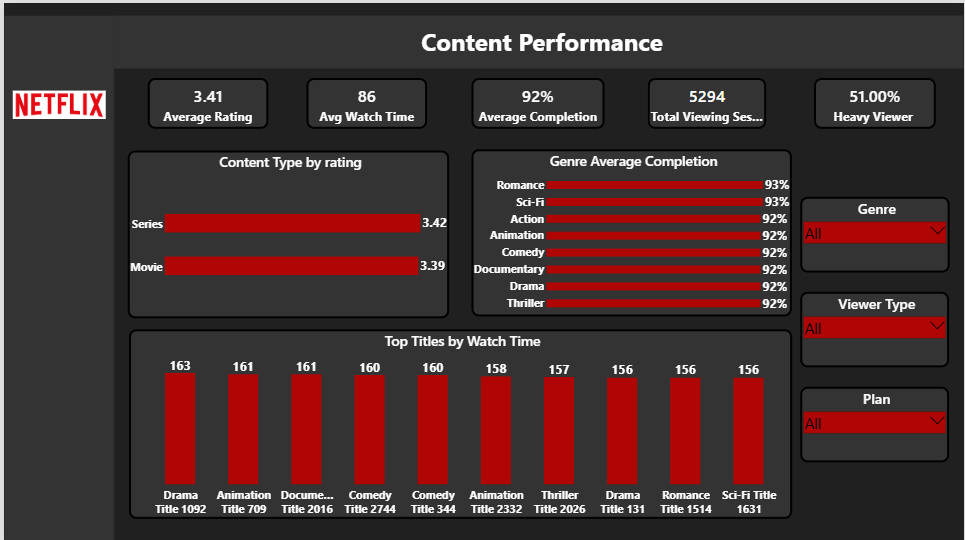

Layout of this report page (visuals, bound fields, positions):
{"tool":"powerbi","page":{"name":"Content Performance","canvas":[3840,2160],"ordinal":3},"visuals":[{"type":"shape","box":[0,51.9,441.5,2107.9],"z":0},{"type":"image","box":[34.6,337.6,372.2,134.2],"z":1000},{"type":"textbox","box":[441.5,51.9,3397.7,212.1],"z":2000},{"type":"card","title":"Revenue by Plan  ","fields":{"Values":["Netflix_Cleaned_Data.Average Rating"]},"box":[572.9,302.3,482.7,203],"z":3000},{"type":"card","title":"Revenue by Plan  ","fields":{"Values":["Netflix_Cleaned_Data.Avg Watcg Time"]},"box":[1209,302.3,482.7,203],"z":4000},{"type":"card","title":"Revenue by Plan  ","fields":{"Values":["Netflix_Cleaned_Data.Total Users"]},"box":[2576,302.3,473.7,203],"z":5000},{"type":"card","title":"Revenue by Plan  ","fields":{"Values":["Netflix_Cleaned_Data.Heavy Viewer Percentage"]},"box":[3239.1,302.3,487.2,203],"z":6000},{"type":"card","title":"Revenue by Plan  ","fields":{"Values":["Netflix_Cleaned_Data.Average Completion"]},"box":[1872.2,302.3,532.3,203],"z":7000},{"type":"slicer","title":"Genre","fields":{"Values":["Netflix_Cleaned_Data.genre"]},"box":[3185.6,774.8,597.3,303],"z":8000},{"type":"slicer","title":"Plan","fields":{"Values":["Netflix_Cleaned_Data.subscription_plan"]},"box":[3185,1533.9,595.5,302.3],"z":9000},{"type":"barChart","title":"Content Type by rating","fields":{"Category":["Netflix_Cleaned_Data.content_type"],"Y":["Netflix_Cleaned_Data.Average Rating"]},"box":[493.4,588.6,1285.5,670.9],"z":10000},{"type":"barChart","title":"Genre Average Completion","fields":{"Category":["Netflix_Cleaned_Data.genre"],"Y":["Netflix_Cleaned_Data.Average Completion"]},"box":[1871.7,584.6,1281.5,668.9],"z":11000},{"type":"columnChart","title":"Top Titles by Watch Time","fields":{"Category":["Netflix_Cleaned_Data.title"],"Y":["Netflix_Cleaned_Data.Avg Watcg Time"]},"box":[500.2,1304,2653,758.8],"z":12000},{"type":"slicer","title":"Viewer  Type","fields":{"Values":["Netflix_Cleaned_Data.Viwer_Type"]},"box":[3185,1154.9,595.5,302.3],"z":13000}]}

Visuals, with their boxes in screenshot pixels (x1, y1, x2, y2), scaled from the page's 3840x2160 canvas onto the 965x540 screenshot:
shape: 0/13/111/539
image: 9/84/102/118
textbox: 111/13/964/66
"Revenue by Plan  " card: 144/76/265/126
"Revenue by Plan  " card: 304/76/425/126
"Revenue by Plan  " card: 647/76/766/126
"Revenue by Plan  " card: 814/76/936/126
"Revenue by Plan  " card: 470/76/604/126
"Genre" slicer: 801/194/951/269
"Plan" slicer: 800/383/950/459
"Content Type by rating" barChart: 124/147/447/315
"Genre Average Completion" barChart: 470/146/792/313
"Top Titles by Watch Time" columnChart: 126/326/792/516
"Viewer  Type" slicer: 800/289/950/364
